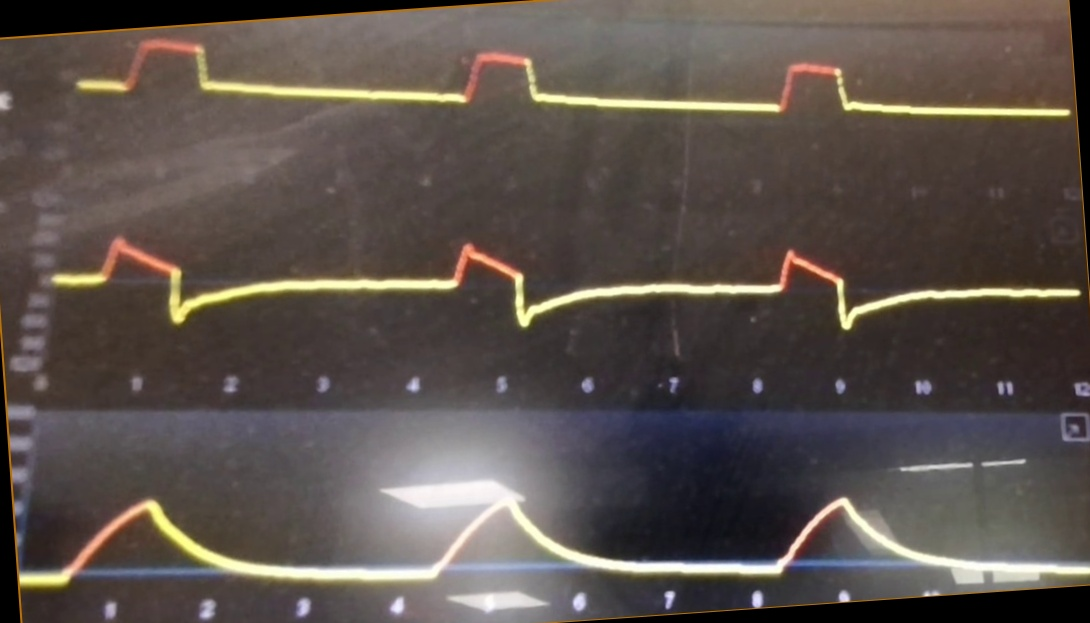Normal Flow: (53, 200, 1079, 342)
Normal Volume: (24, 435, 1090, 588)
